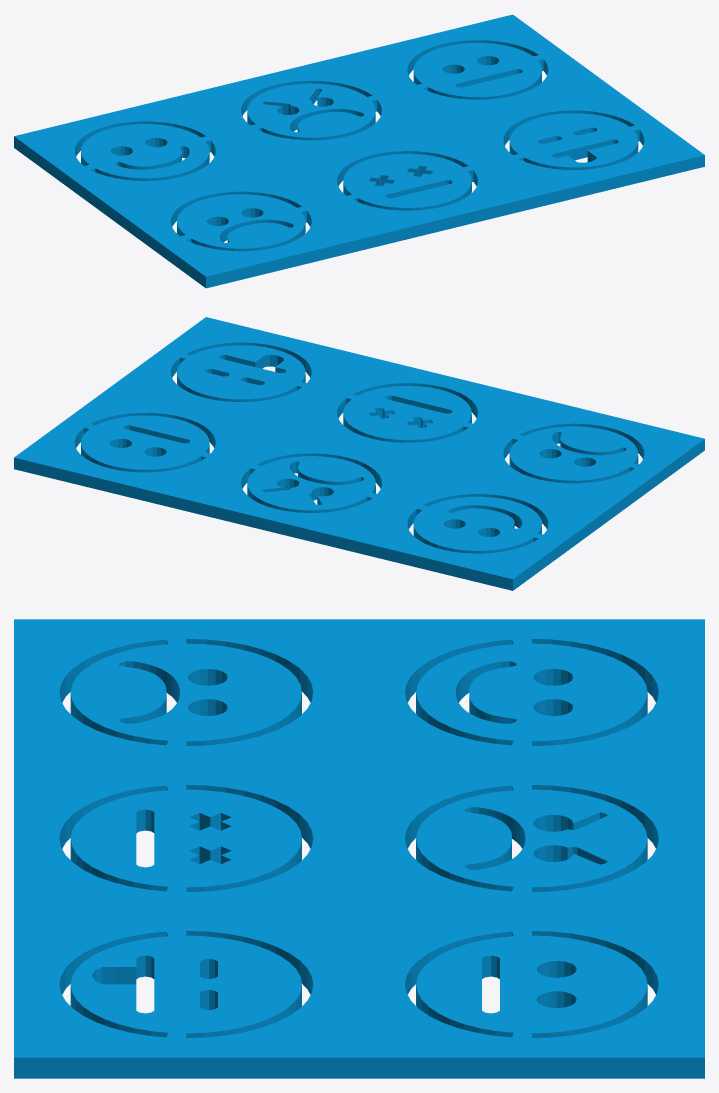
Rendered from stencil.glb.
3 renders of one model, top to bottom at view 1: azimuth 30°, elevation 25°; view 2: azimuth 150°, elevation 25°; view 3: azimuth 270°, elevation 25°, orthographic. The views are drawn at different scales.
Size of the model in its own units: 0.118 by 0.00264 by 0.0787.
